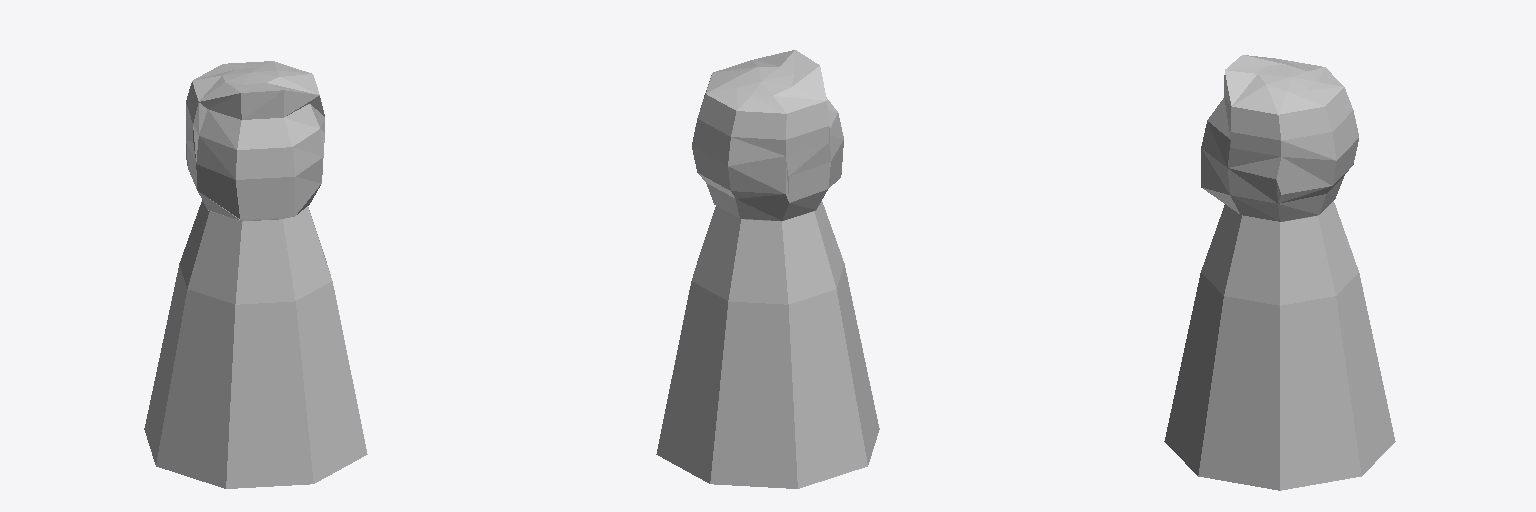
The model's file is passenger_male.obj.
3 renders of one model, left to right at view 1: azimuth 30°, elevation 25°; view 2: azimuth 150°, elevation 25°; view 3: azimuth 270°, elevation 25°, orthographic.
Parts seen in each view (by area): view 1: Cylinder_Cylinder.002; view 2: Cylinder_Cylinder.002; view 3: Cylinder_Cylinder.002.
Boxes of the visible parts, <box> form: Cylinder_Cylinder.002: <box>144,61,367,488</box>; Cylinder_Cylinder.002: <box>656,50,879,488</box>; Cylinder_Cylinder.002: <box>1164,55,1395,490</box>.
Size of the model in its own units: 1.73 by 3.07 by 1.73.